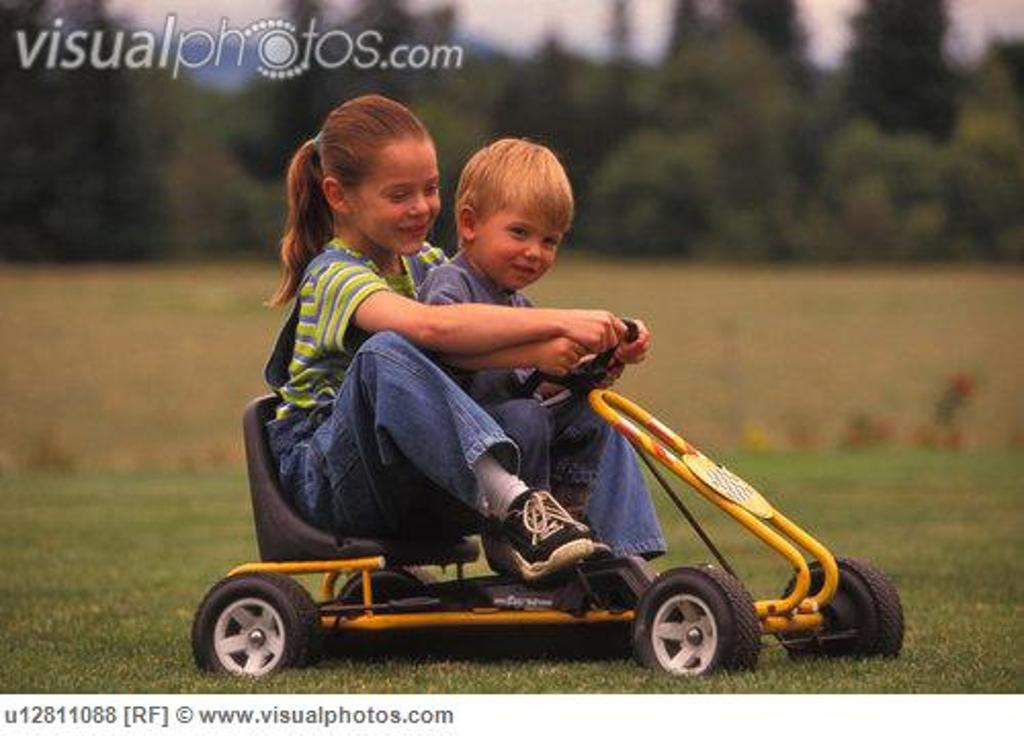face: (358, 154, 442, 256), (482, 192, 562, 288)
